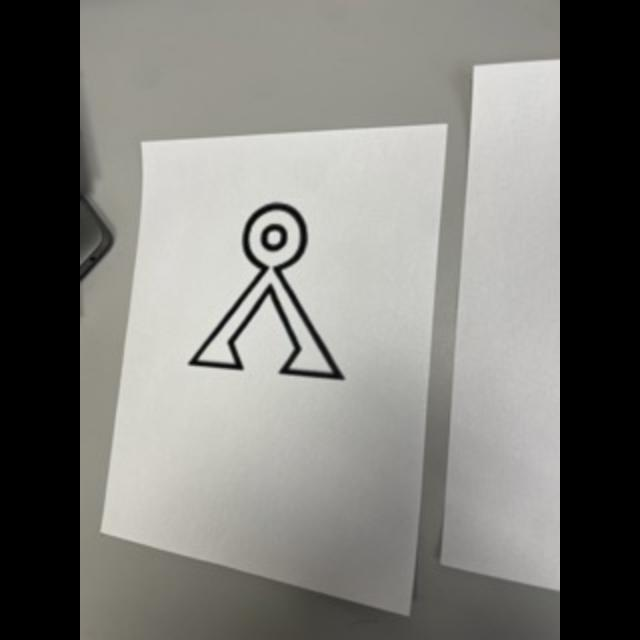earth: (176, 193, 360, 394)
